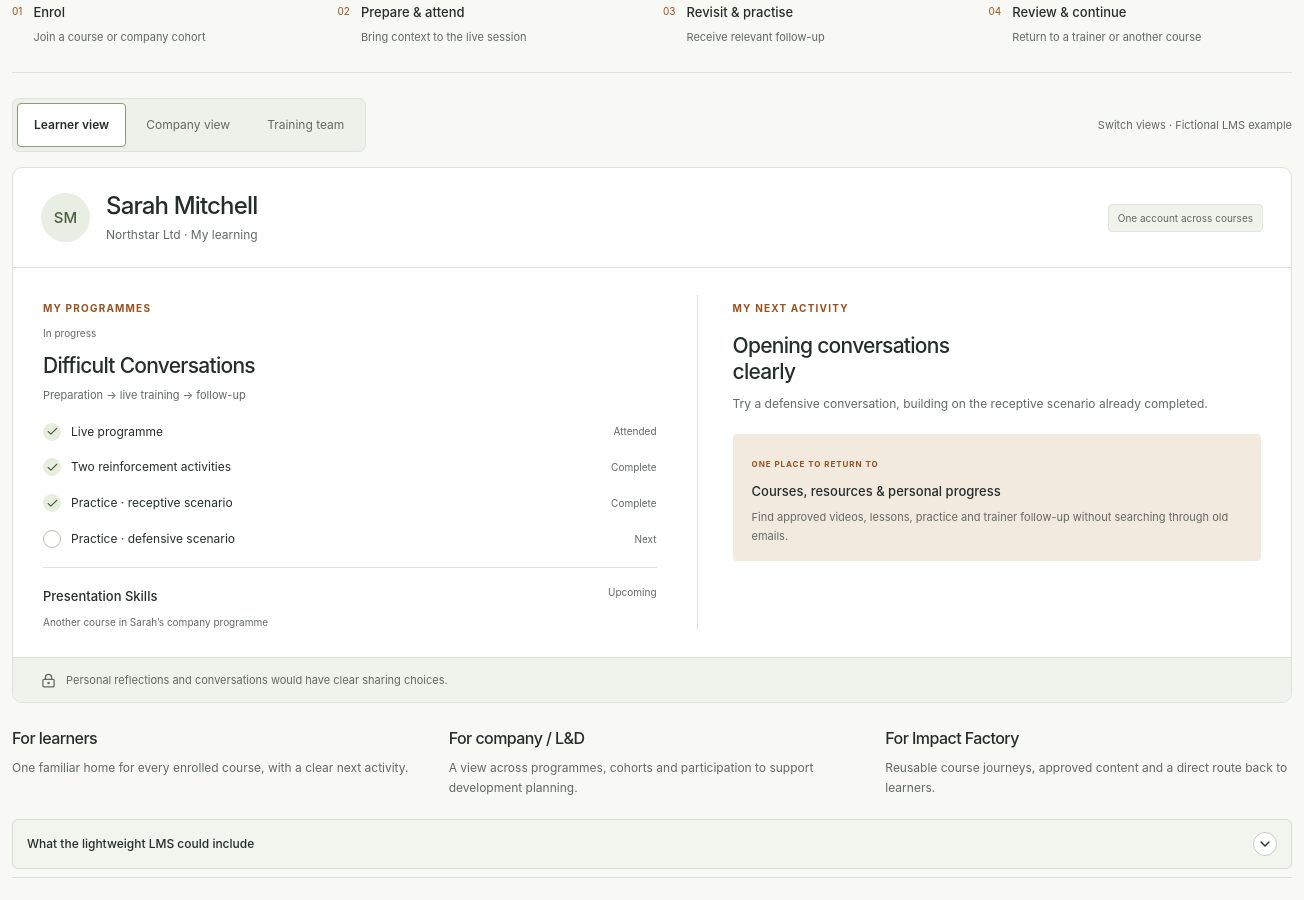
Scenario: switches the company example without exposing Sarah’s personal development notes
The width and height of the screenshot is (1304, 900).
Expected: the heading "Opening conversations clearly" is shown, [732,333,949,384]
Click the tab "Company view".
click(188, 125)  # box [129,103,247,147]
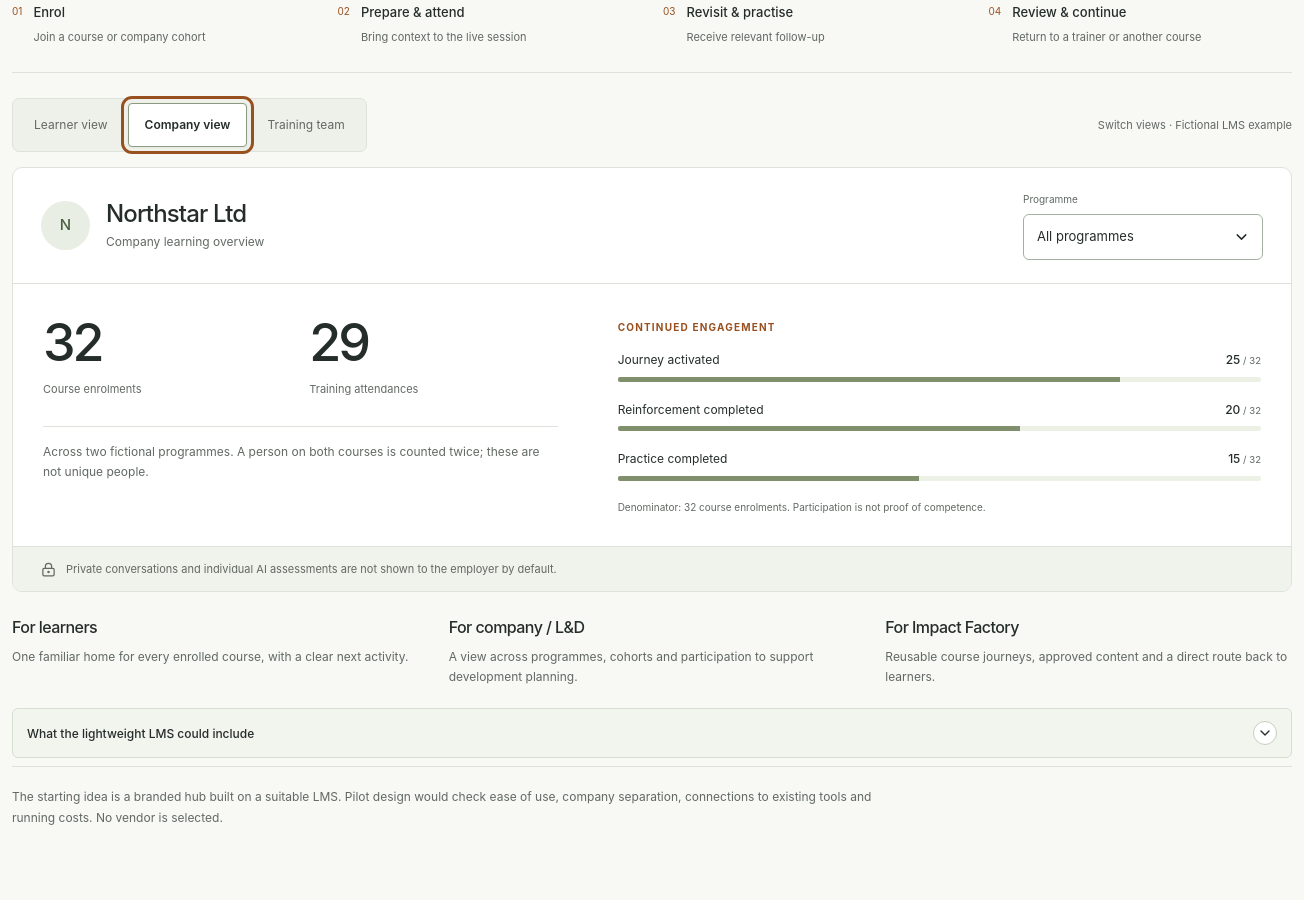
Expected: the heading "Opening conversations clearly" is gone
Expected: the text "Journey activated" is shown, [618,350,720,370]
Expected: the text "not shown to the employer by default" is shown, [66,562,557,576]
